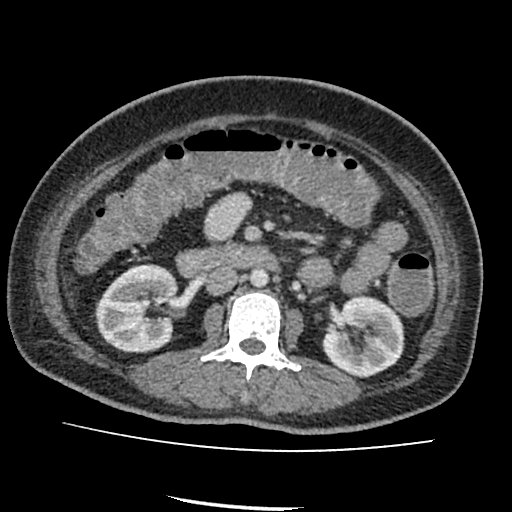aorta: (245, 263, 272, 290)
